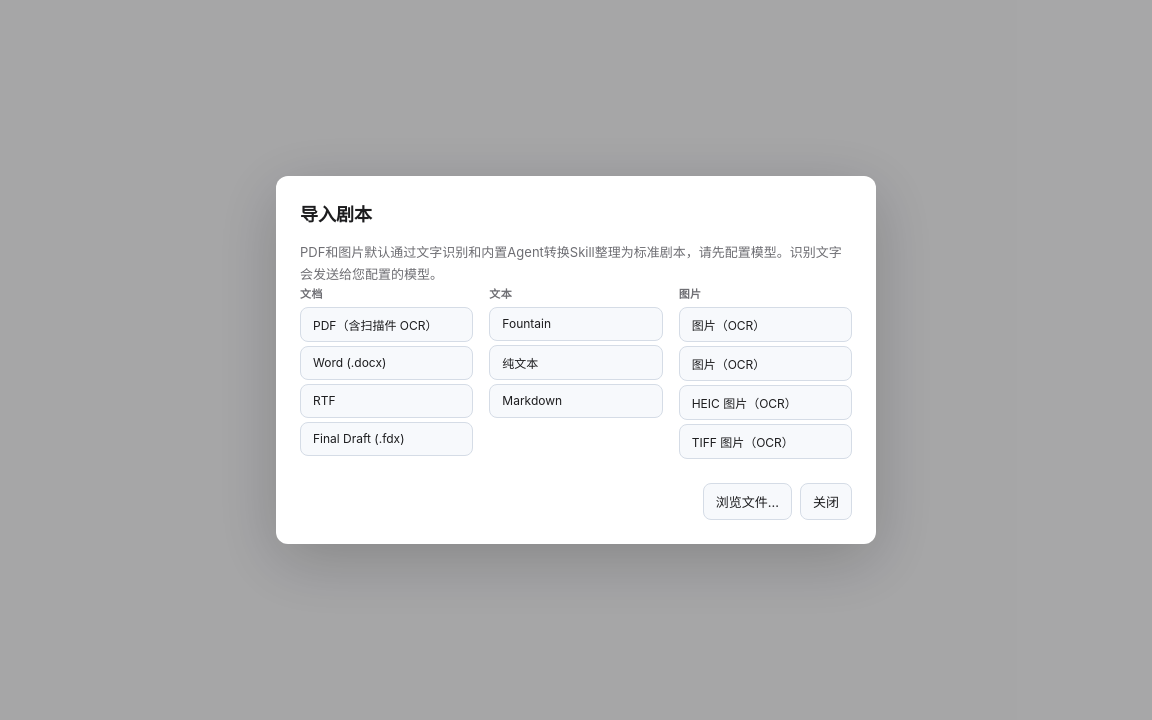
Test: 取消后保留当前剧本，忽略其他任务进度，解除监听
Click the button "PDF（含扫描件 OCR）" at (387, 324), box [300,307,473,342]
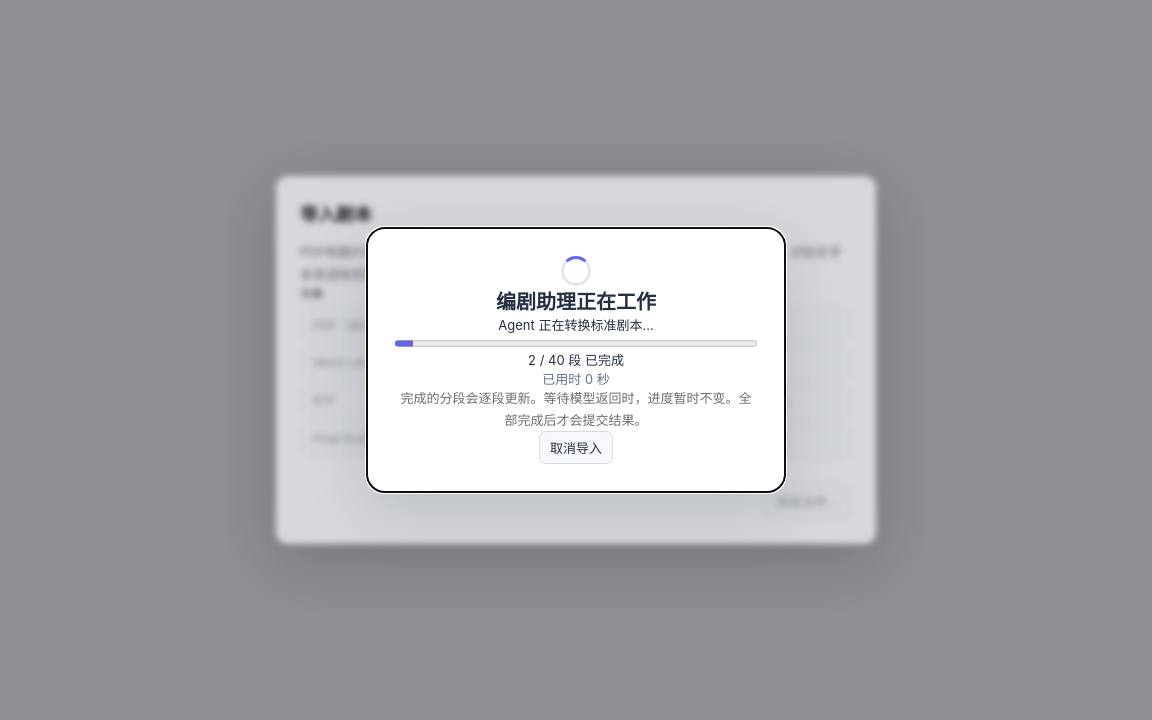
Expected: the text "正在检查模型配置" is shown, [498,317,654,333]
Expected: the dialog named "Agent工作状态" is shown, [366,227,786,493]
Expected: the text "2 / 40 段" is shown, [528,352,581,368]
Click the button "取消导入" at (576, 447), box [539,431,613,464]
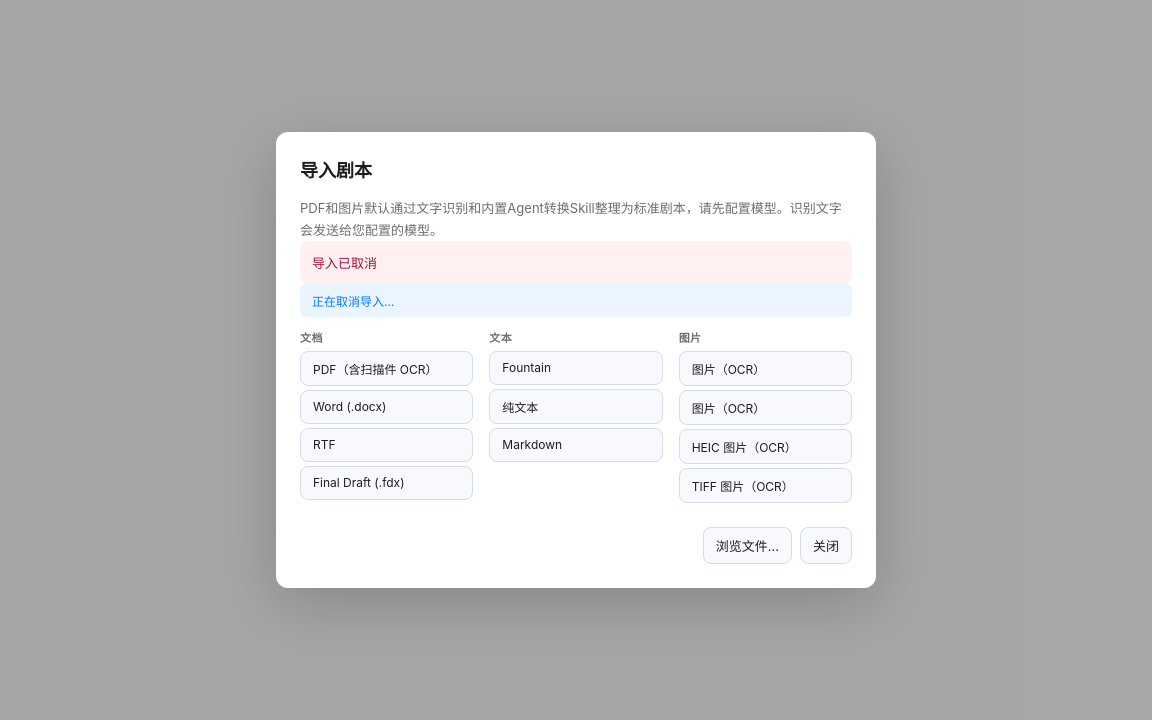
Expected: the button "关闭" is shown, [800,527,852,564]
